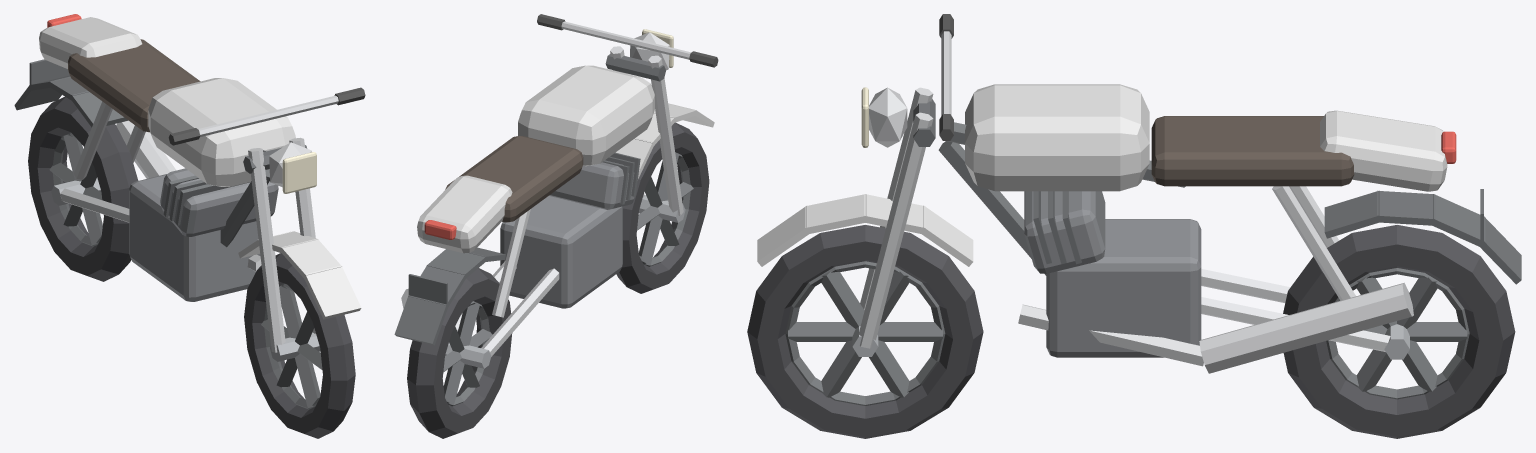
The model's file is motorbike.glb.
The picture shows the model from 3 angles, left to right: view 1: azimuth 30°, elevation 25°; view 2: azimuth 150°, elevation 25°; view 3: azimuth 270°, elevation 25°; orthographic projection. The views are drawn at different scales.
Parts seen in each view (by area): view 1: body, wheel-back, wheel-front, steer, seat, detach_fender, detach_fender_back, detach_exhaust; view 2: body, wheel-back, wheel-front, steer, seat, detach_fender_back, detach_fender; view 3: body, wheel-front, wheel-back, seat, detach_exhaust, steer, detach_fender_back, detach_fender.
Part boxes in pixels (x1,y1,x2,y2): body: [39, 14, 295, 301]; wheel-back: [28, 97, 138, 281]; wheel-front: [244, 253, 355, 438]; steer: [168, 87, 365, 352]; seat: [68, 39, 200, 132]; detach_fender: [238, 231, 361, 319]; detach_fender_back: [14, 59, 128, 127]; detach_exhaust: [116, 120, 261, 271]; body: [417, 65, 654, 356]; wheel-back: [407, 268, 512, 438]; wheel-front: [616, 122, 709, 293]; steer: [537, 14, 718, 215]; seat: [445, 136, 583, 222]; detach_fender_back: [394, 247, 505, 345]; detach_fender: [616, 103, 714, 178]; body: [938, 84, 1456, 357]; wheel-front: [747, 225, 983, 438]; wheel-back: [1283, 225, 1515, 438]; seat: [1151, 116, 1354, 186]; detach_exhaust: [1018, 282, 1413, 373]; steer: [858, 14, 953, 348]; detach_fender_back: [1324, 189, 1521, 284]; detach_fender: [757, 194, 973, 266].
Size of the model in its own units: 0.74 by 1.1 by 2.1.
